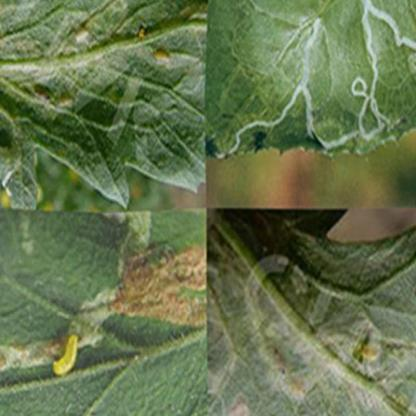whorl-maggot: (47, 330, 86, 382), (148, 44, 175, 70)
